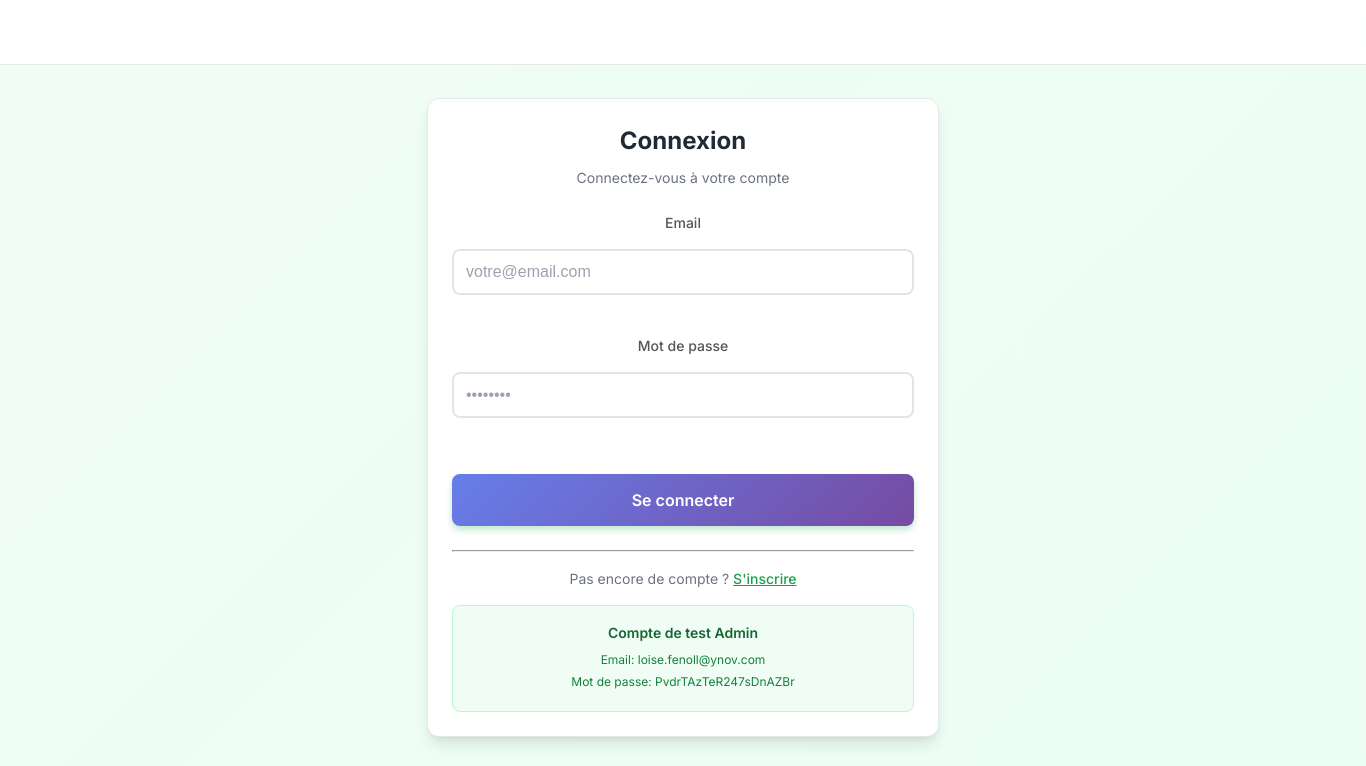
Tests d'authentification › Connexion › Devrait basculer vers le formulaire d'inscription
Click the button "S'inscrire".
click(765, 579)  # box [733, 570, 796, 587]
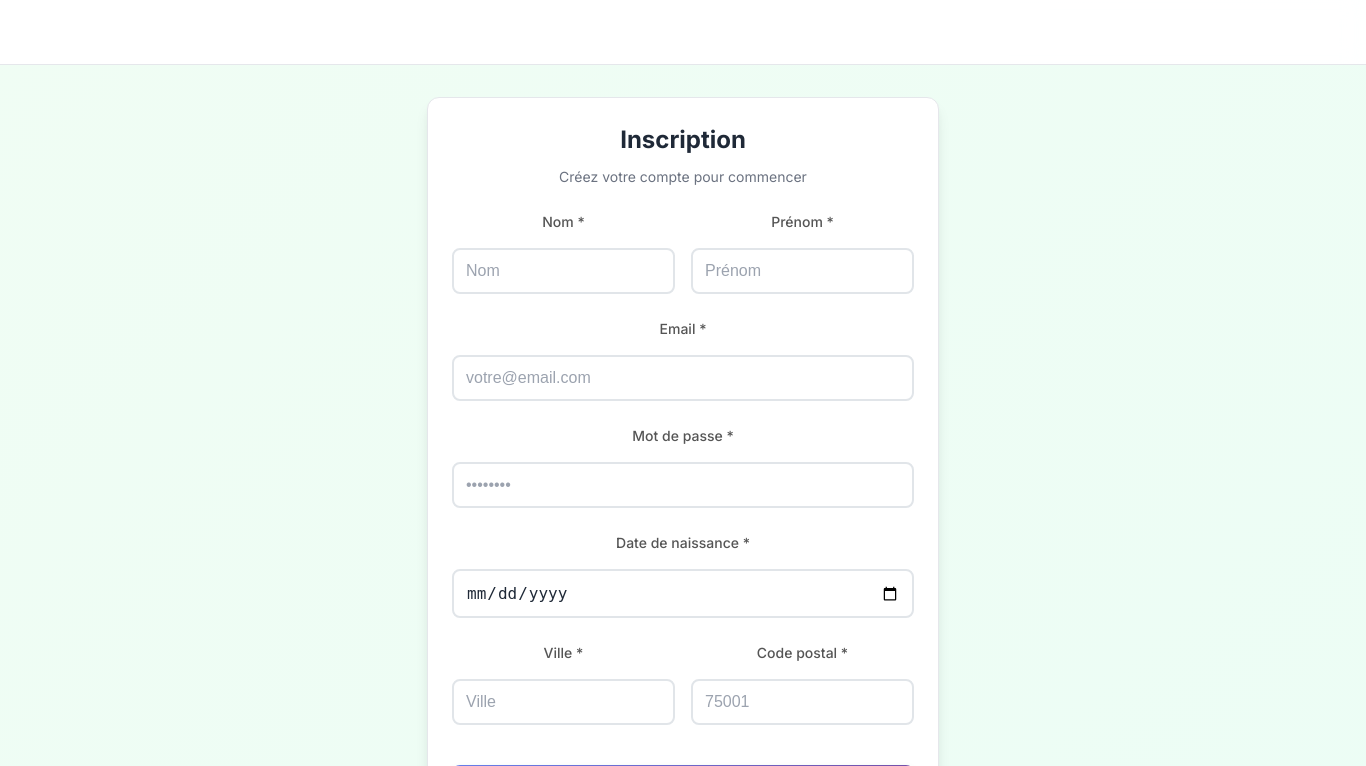
Now the heading with class "auth-title" reads "Inscription", box [620, 125, 746, 154]
Now the field with id "email" is shown, box [452, 355, 914, 401]
Now the password field labelled "Mot de passe *" is shown, box [452, 462, 914, 508]
